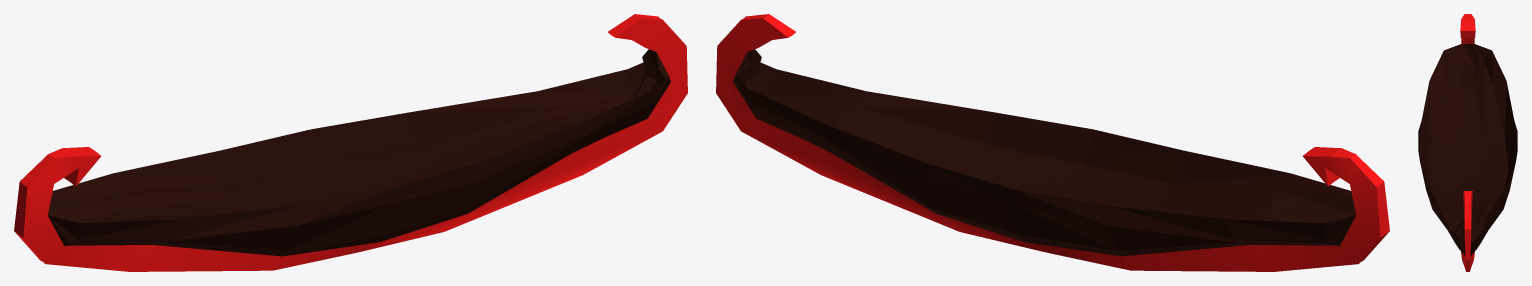
Rendered from BoatBody.FBX.
3 views of the same model, side by side, from view 1: azimuth 30°, elevation 25°; view 2: azimuth 150°, elevation 25°; view 3: azimuth 270°, elevation 25° (orthographic). The views are drawn at different scales.
Visible parts, largest first — view 1: BoatBody; view 2: BoatBody; view 3: BoatBody.
Part boxes in pixels (x1,y1,x2,y2): BoatBody: (14,14,687,271); BoatBody: (716,14,1389,271); BoatBody: (1418,14,1517,271).
Bounding box in the file's own units: 189 × 44.25 × 39.73.
